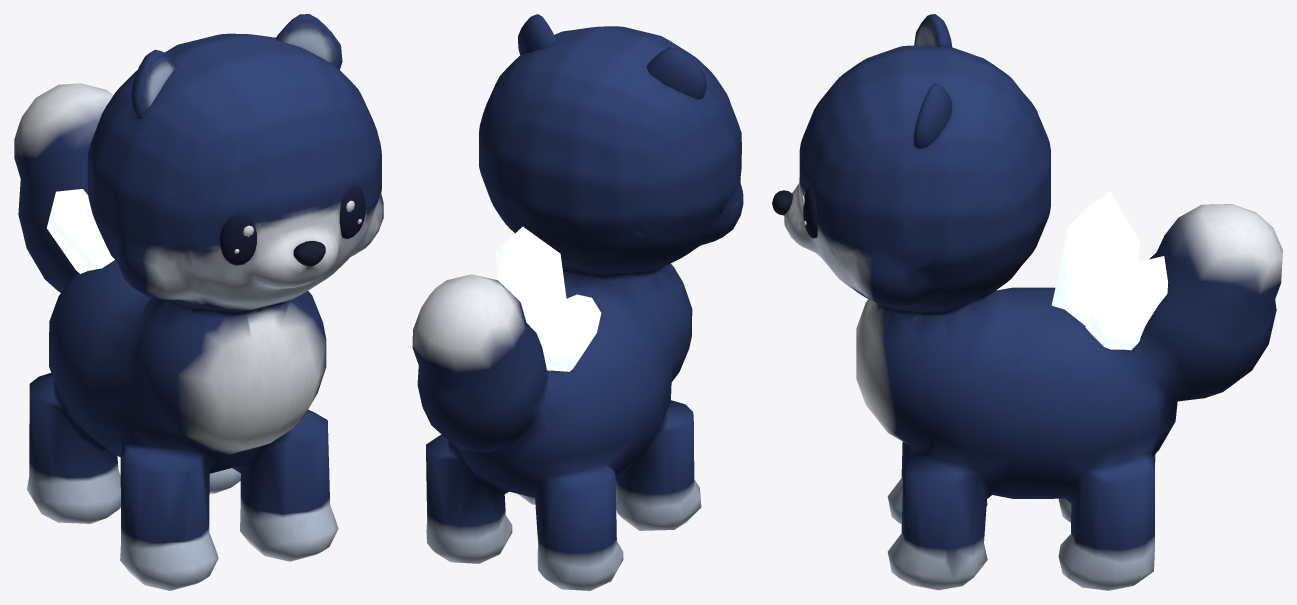
Rendered from frostwolf_a.fbx.
3 renders of one model, left to right at view 1: azimuth 30°, elevation 25°; view 2: azimuth 150°, elevation 25°; view 3: azimuth 270°, elevation 25°, orthographic. The views are drawn at different scales.
Parts seen in each view (by area): view 1: FrostWolf_Body, FrostWolf_GLOW, FrostWolf_Eyes; view 2: FrostWolf_Body, FrostWolf_GLOW; view 3: FrostWolf_Body, FrostWolf_GLOW.
Part boxes in pixels (left/top/right/bottom): FrostWolf_Body: left=14, top=14, right=383, bottom=590; FrostWolf_GLOW: left=47, top=189, right=114, bottom=273; FrostWolf_Eyes: left=220, top=186, right=365, bottom=265; FrostWolf_Body: left=412, top=14, right=743, bottom=590; FrostWolf_GLOW: left=496, top=226, right=601, bottom=371; FrostWolf_Body: left=772, top=14, right=1282, bottom=590; FrostWolf_GLOW: left=1051, top=191, right=1168, bottom=350.
Size of the model in its own units: 1.34 by 2.68 by 2.45.
Materials: 3 (1 with a texture image).
